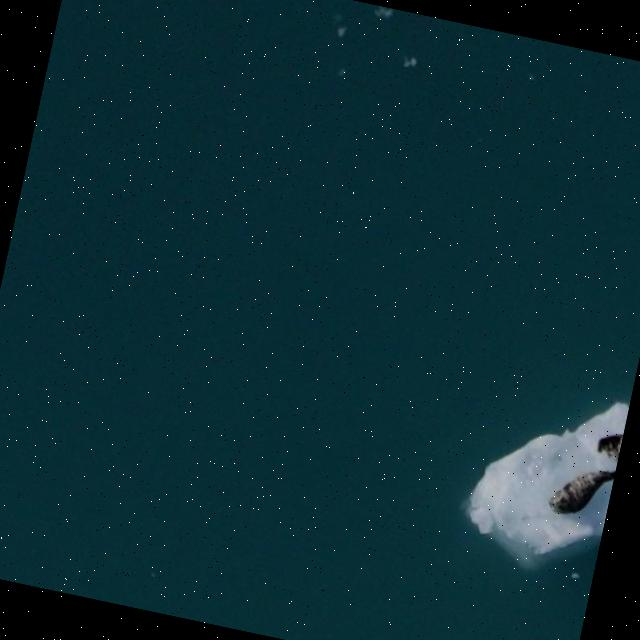seal: (551, 468, 615, 513), (596, 434, 623, 459)
